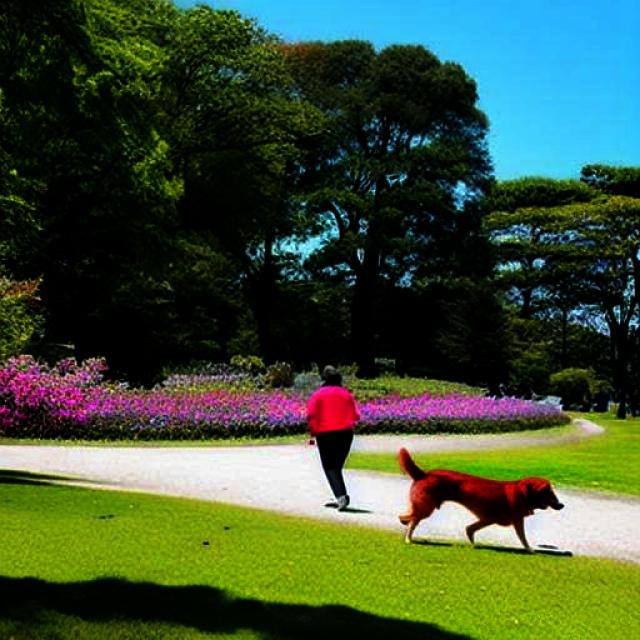Unleashed_Dog: (317, 434, 564, 555)
